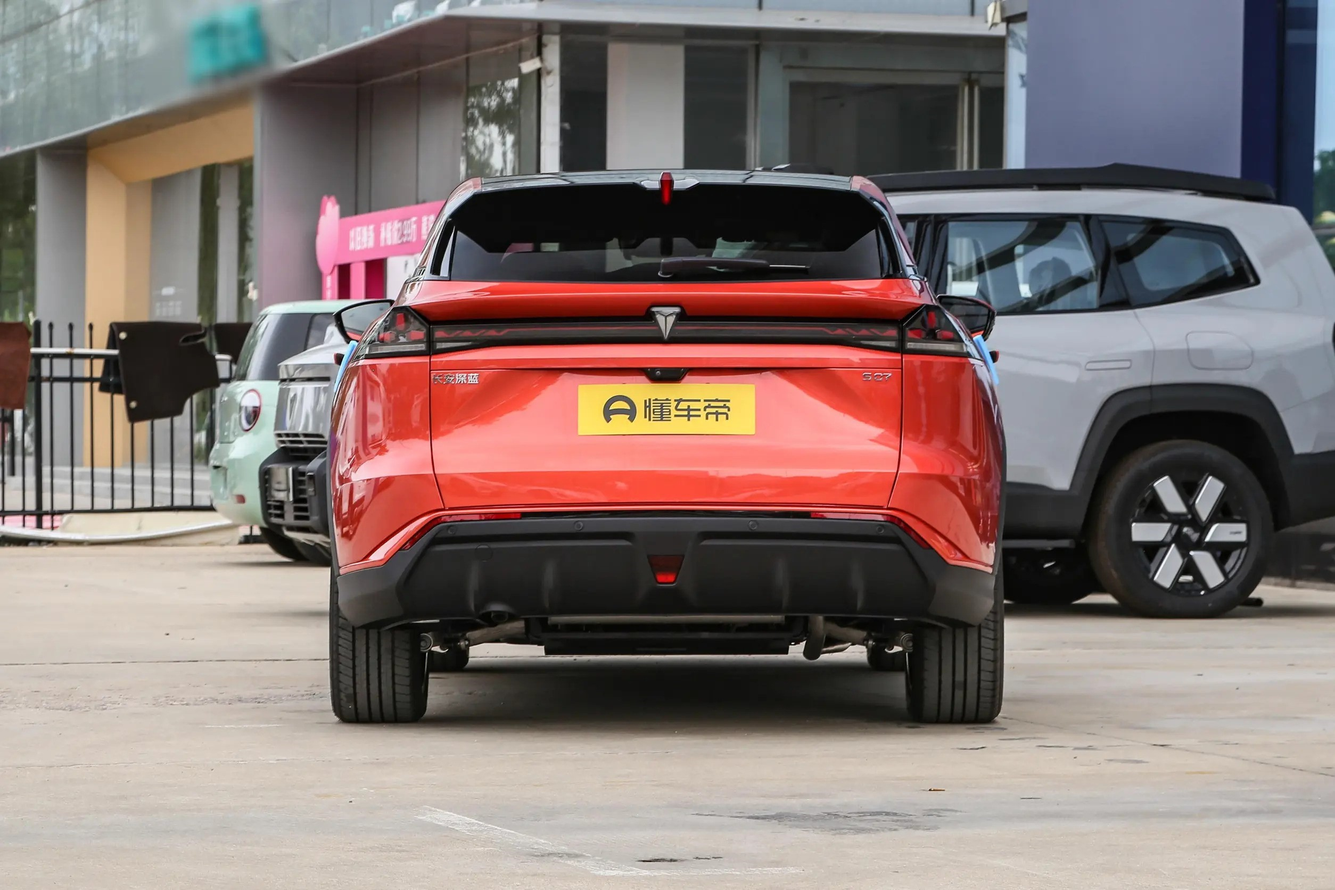Deepal: (654, 310, 677, 339)
